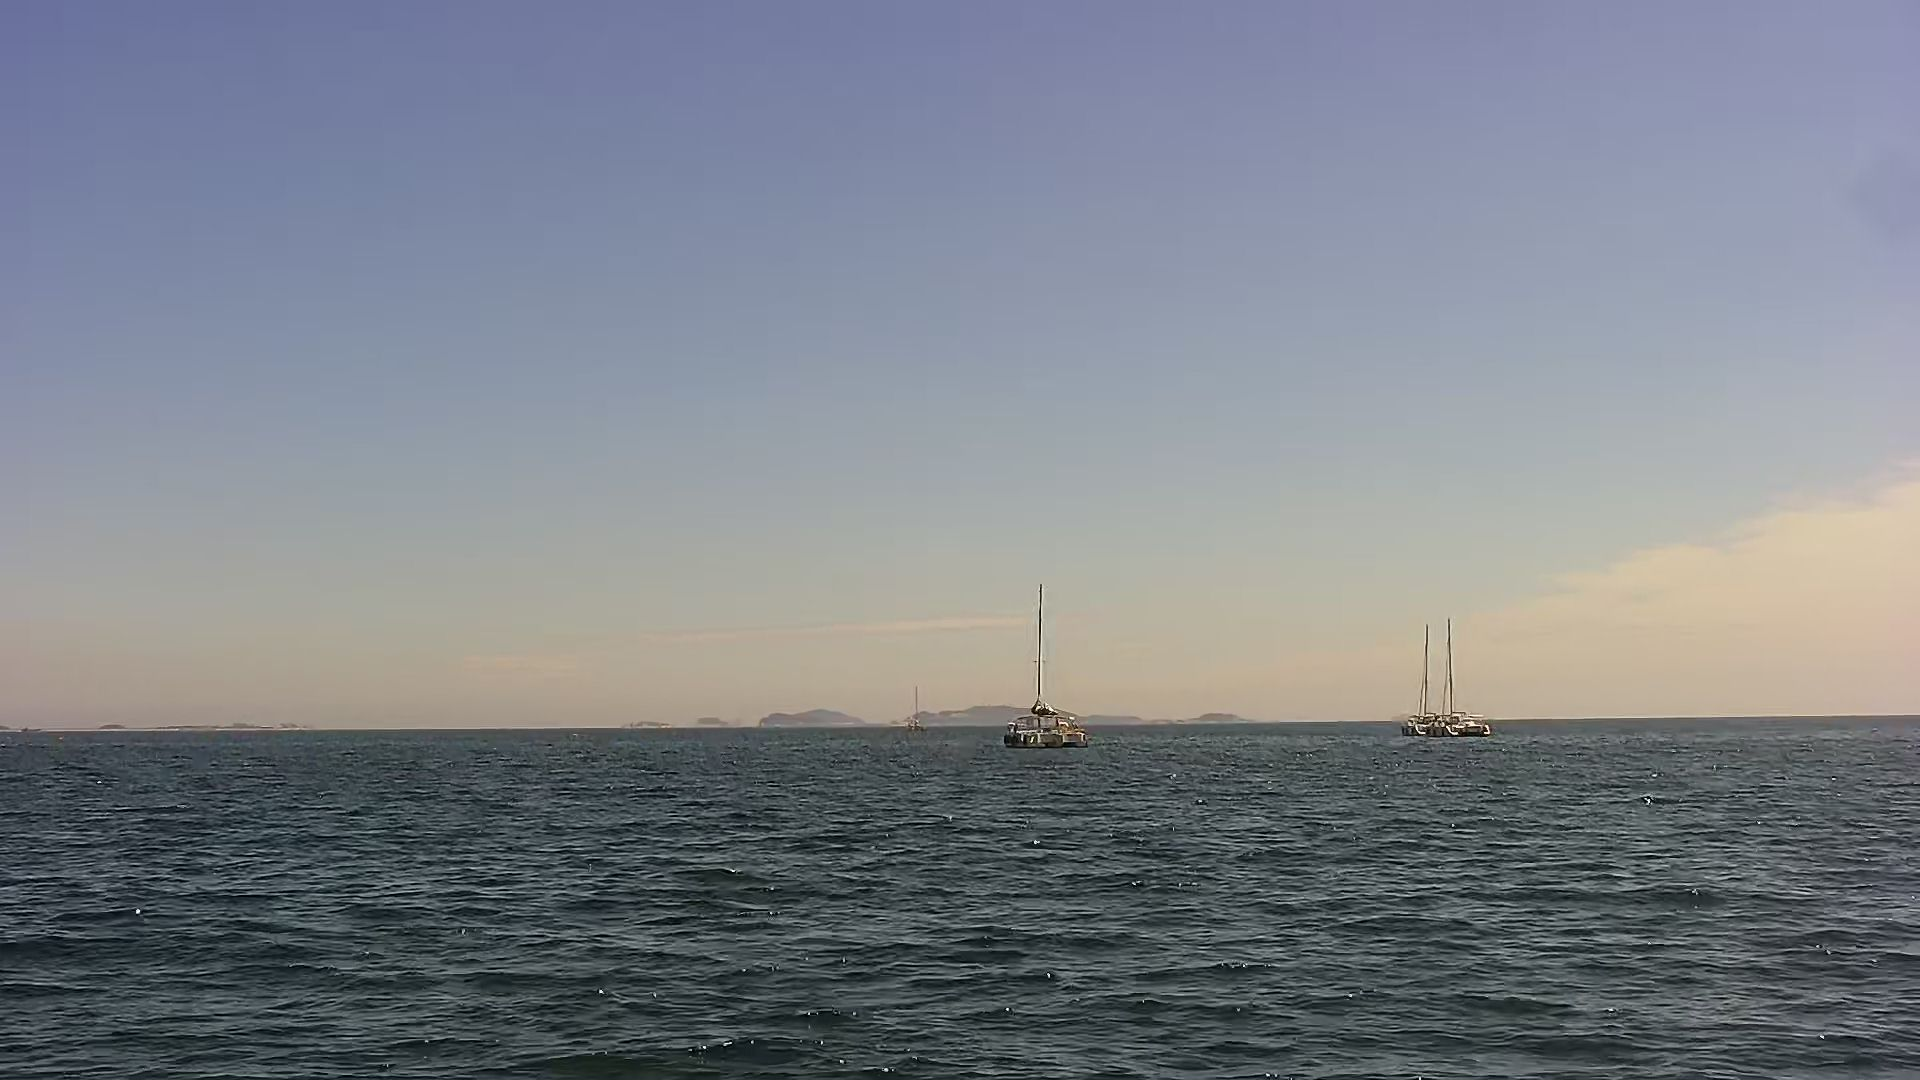boat: (998, 575, 1095, 752), (1435, 615, 1501, 741), (1395, 600, 1447, 744)
rock: (905, 705, 1167, 727), (756, 708, 872, 727), (1185, 702, 1269, 727), (164, 715, 311, 728), (622, 711, 673, 733), (690, 707, 733, 731), (88, 712, 127, 733)
